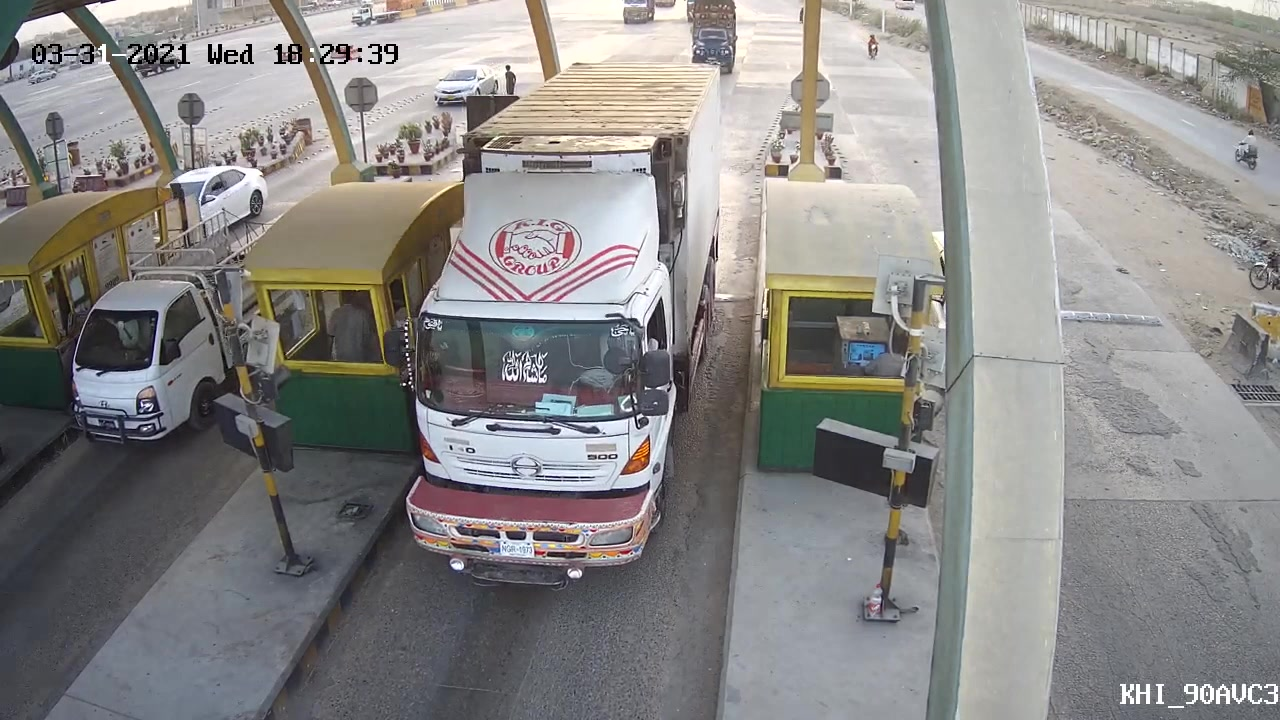F6: (378, 111, 702, 597)
